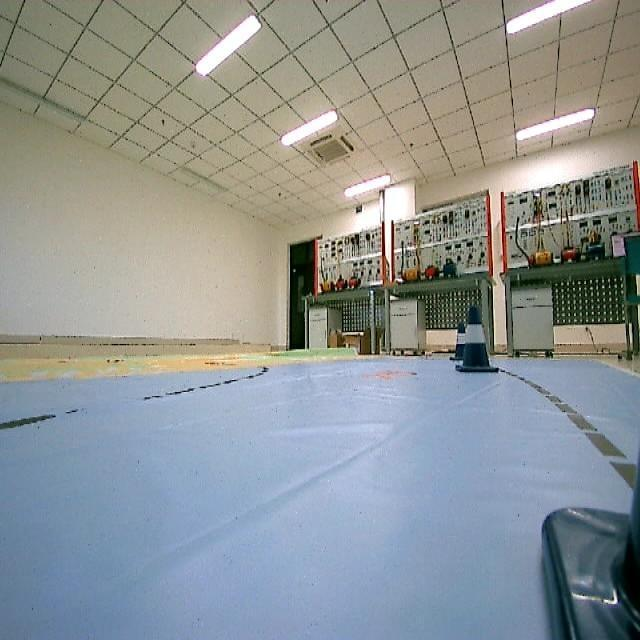obstacle: (453, 305, 505, 386)
